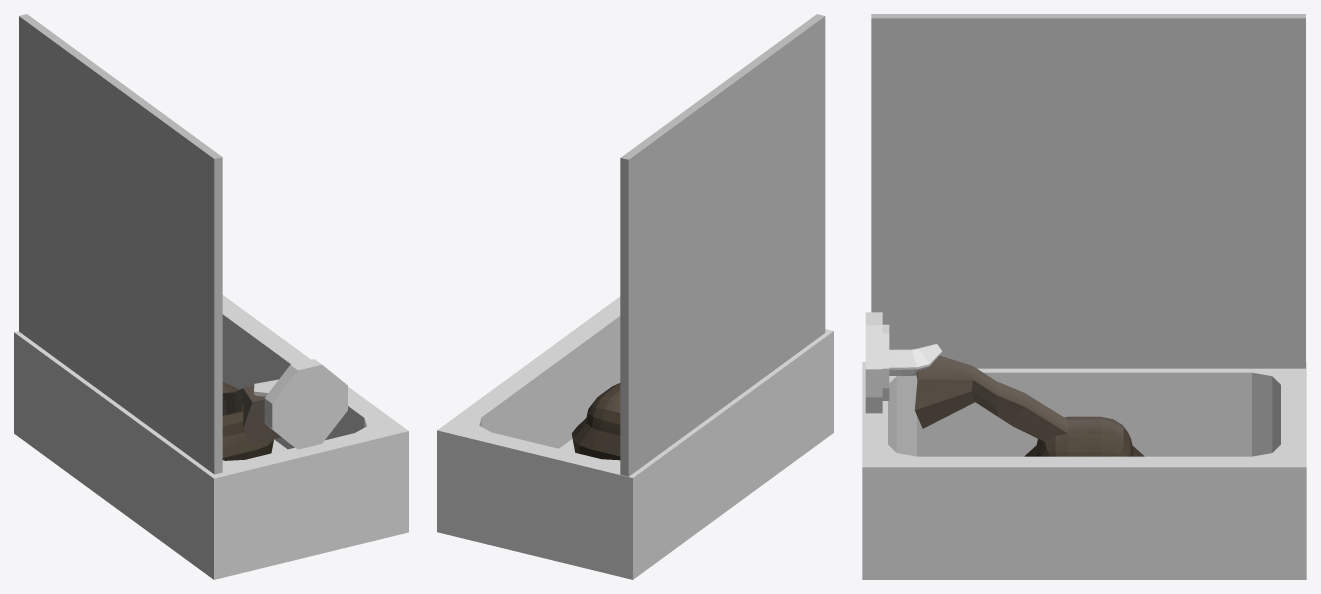
The model's file is ShowerHead.fbx.
3 views of the same model, side by side, from view 1: azimuth 30°, elevation 25°; view 2: azimuth 150°, elevation 25°; view 3: azimuth 270°, elevation 25° (orthographic). The views are drawn at different scales.
Visible parts, largest first — view 1: ShowerCurtainsOpen, Bath, ShowerCurtainsClosed, ShowerControl, ShowerNozzle; view 2: Bath, ShowerCurtainsOpen, ShowerCurtainsClosed, ShowerNozzle; view 3: ShowerCurtainsOpen, Bath, ShowerCurtainsClosed, ShowerNozzle, ShowerControl.
Part boxes in pixels (x1,y1,x2,y2): ShowerCurtainsOpen: (20, 17, 222, 474); Bath: (14, 295, 408, 579); ShowerCurtainsClosed: (19, 14, 91, 378); ShowerControl: (254, 359, 347, 449); ShowerNozzle: (222, 382, 281, 460); Bath: (437, 296, 833, 579); ShowerCurtainsOpen: (630, 14, 825, 436); ShowerCurtainsClosed: (620, 110, 693, 476); ShowerNozzle: (571, 383, 620, 460); ShowerCurtainsOpen: (871, 14, 1302, 368); Bath: (862, 362, 1306, 579); ShowerCurtainsClosed: (1161, 14, 1305, 368); ShowerNozzle: (914, 355, 1144, 456); ShowerControl: (865, 312, 942, 413).
Bounding box in the file's own units: 75.49 × 154 × 134.
